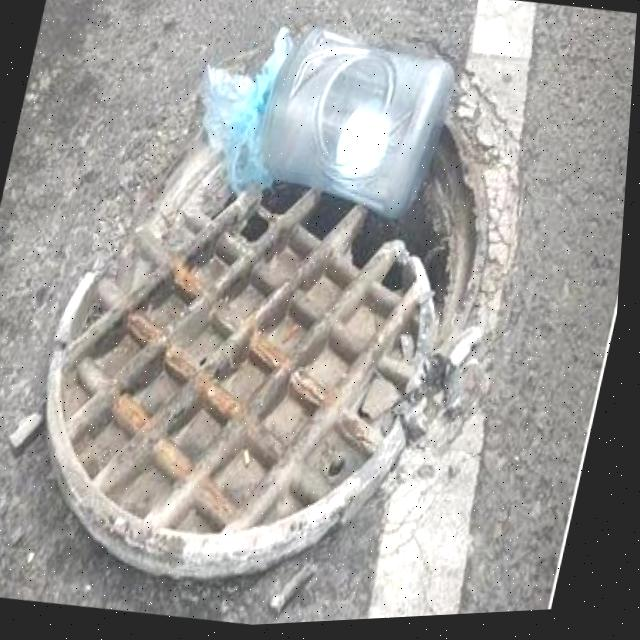manhole: (10, 138, 496, 624)
